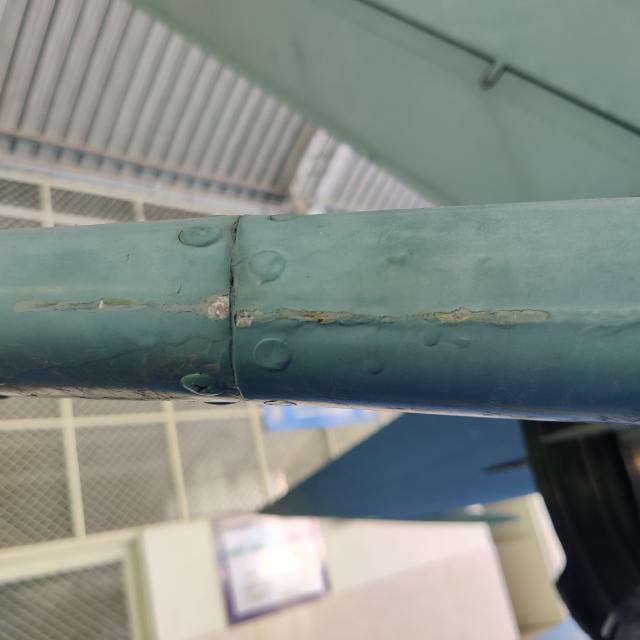paint-off: (157, 285, 367, 337), (414, 296, 559, 342), (8, 288, 152, 318)
